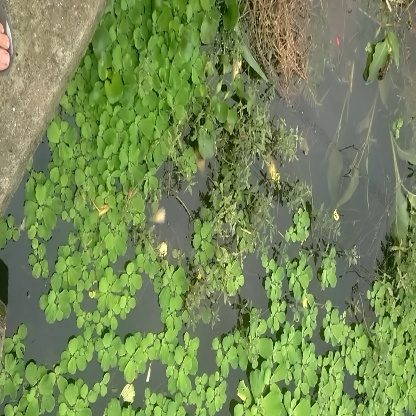leaf: (363, 28, 407, 95)
